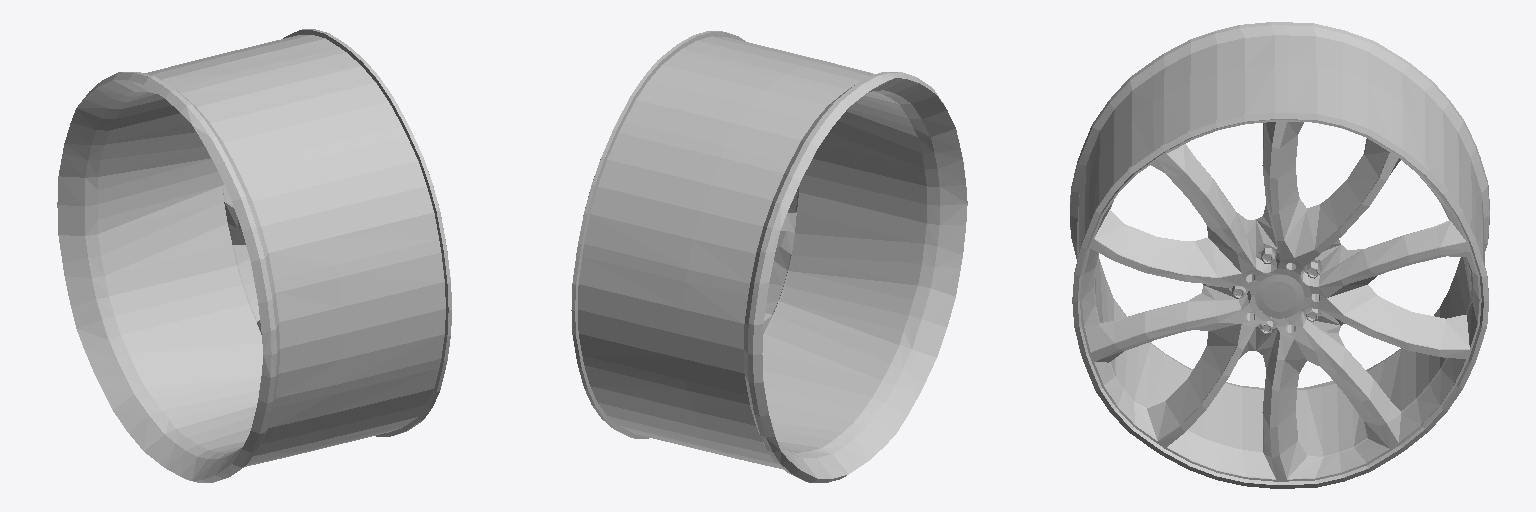
Rendered from AEZ Excite Dark_low.obj.
The picture shows the model from 3 angles: view 1: azimuth 30°, elevation 25°; view 2: azimuth 150°, elevation 25°; view 3: azimuth 270°, elevation 25°; orthographic projection.
Visible parts, largest first — view 1: Rim_AEZ; view 2: Rim_AEZ; view 3: Rim_AEZ, Badge.
Boxes of the visible parts, x1=… form: Rim_AEZ: x1=57, y1=29, x2=451, y2=482; Rim_AEZ: x1=571, y1=31, x2=967, y2=482; Rim_AEZ: x1=1070, y1=22, x2=1489, y2=488; Badge: x1=1255, y1=275, x2=1303, y2=318.
Size of the model in its own units: 3.46 by 6.5 by 6.52.